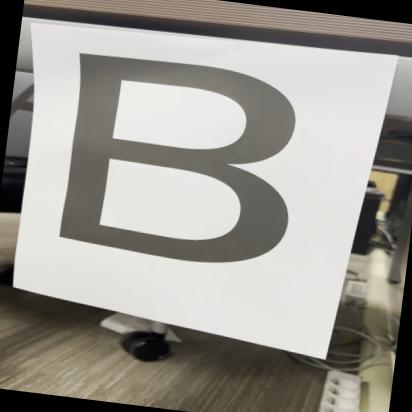seat: (26, 37, 326, 287)
